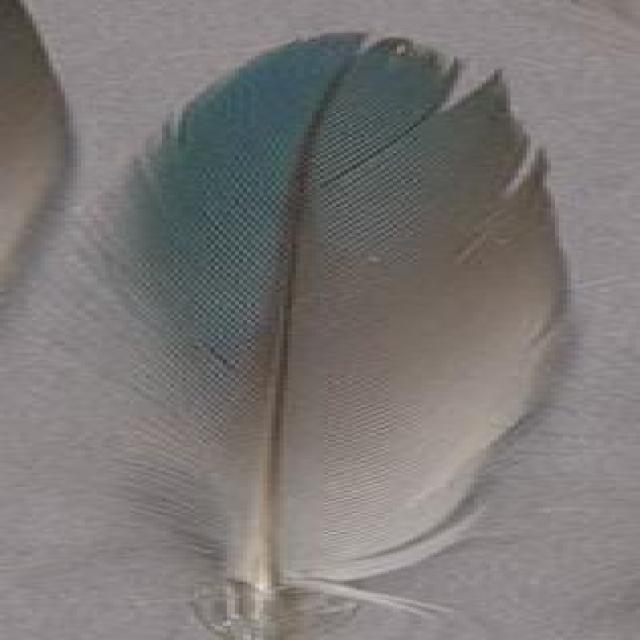feather: (18, 25, 593, 640)
